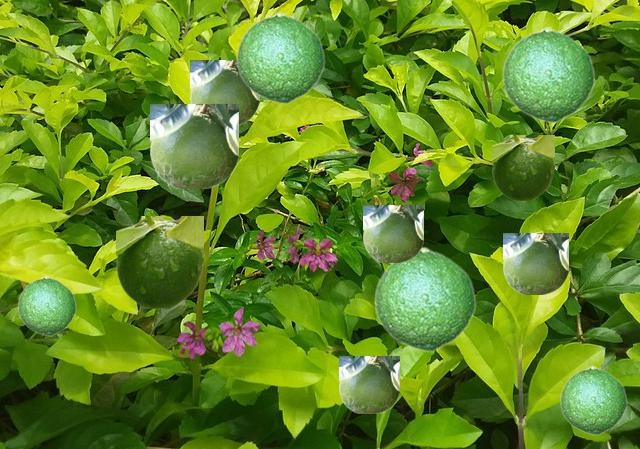dalandan: (373, 246, 475, 351), (501, 26, 594, 122), (235, 11, 324, 103), (116, 216, 202, 308), (150, 104, 237, 187), (559, 365, 626, 434), (190, 60, 258, 125), (492, 135, 553, 200), (503, 233, 567, 293), (17, 275, 75, 335), (363, 205, 422, 261), (339, 356, 398, 412)
